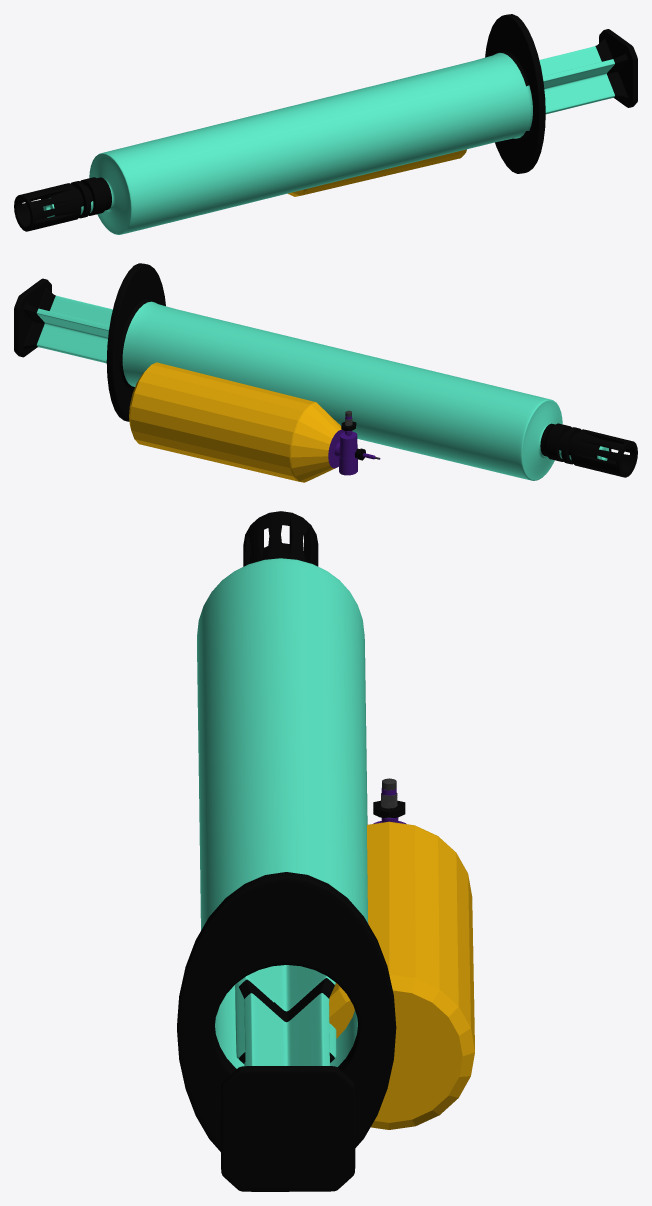
Rendered from Flamethrower.fbx.
3 views of the same model, one above another, from view 1: azimuth 30°, elevation 25°; view 2: azimuth 150°, elevation 25°; view 3: azimuth 270°, elevation 25° (orthographic). The views are drawn at different scales.
Visible parts, largest first — view 1: Syringe, m4a1, Gas Tank; view 2: Syringe, Gas Tank, m4a1; view 3: Syringe, Gas Tank, m4a1.
Part boxes in pixels (x1,y1,x2,y2): Syringe: [43, 14, 637, 234]; m4a1: [14, 177, 111, 231]; Gas Tank: [288, 149, 466, 196]; Syringe: [14, 263, 608, 480]; Gas Tank: [129, 362, 380, 482]; m4a1: [540, 423, 637, 477]; Syringe: [177, 558, 396, 1191]; Gas Tank: [329, 778, 474, 1129]; m4a1: [243, 511, 318, 566].
Size of the model in its own units: 443 by 109 by 95.85.
